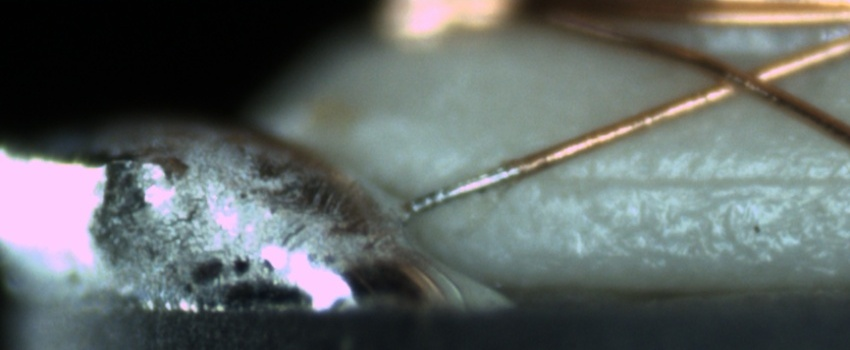CL: (696, 52, 792, 104)
DL: (533, 154, 850, 209)
TS: (408, 161, 521, 212)
